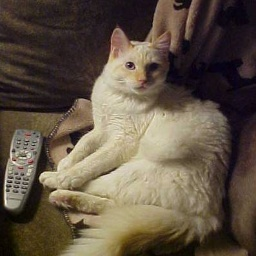cat: (55, 29, 229, 251)
